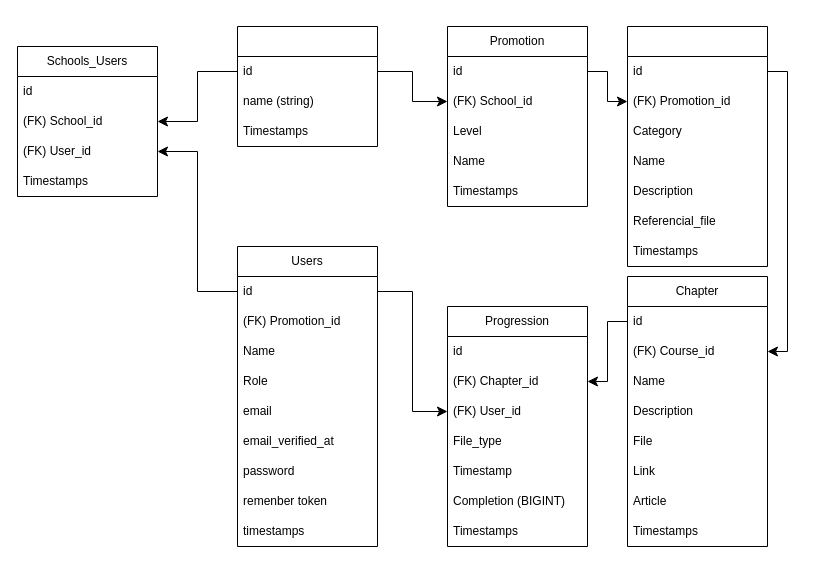
Some shapes in this 815 by 564 pixel diagram are drawn without their labels. The shapes that lost their labels are listed below. From the top down, each one's box as (x1, y1, x2, y2) in pixels, then its label:
(236, 26, 378, 146): School
(626, 26, 768, 266): Courses
